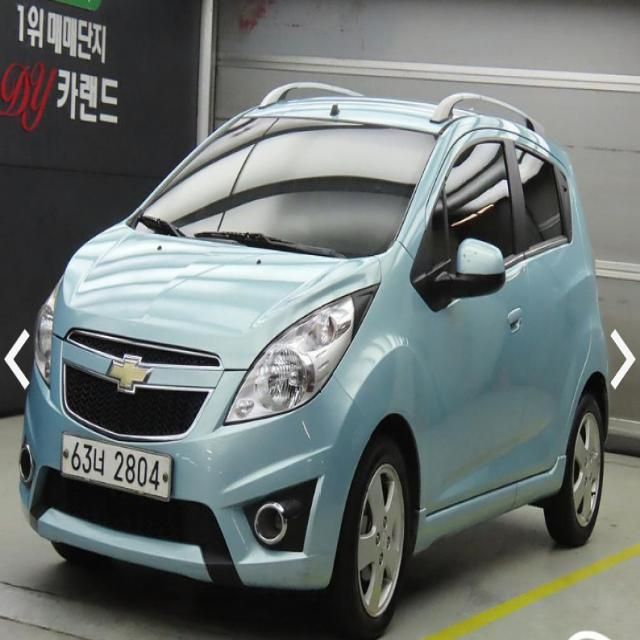car: (28, 96, 610, 638)
illegal_plate: (57, 429, 176, 509)
